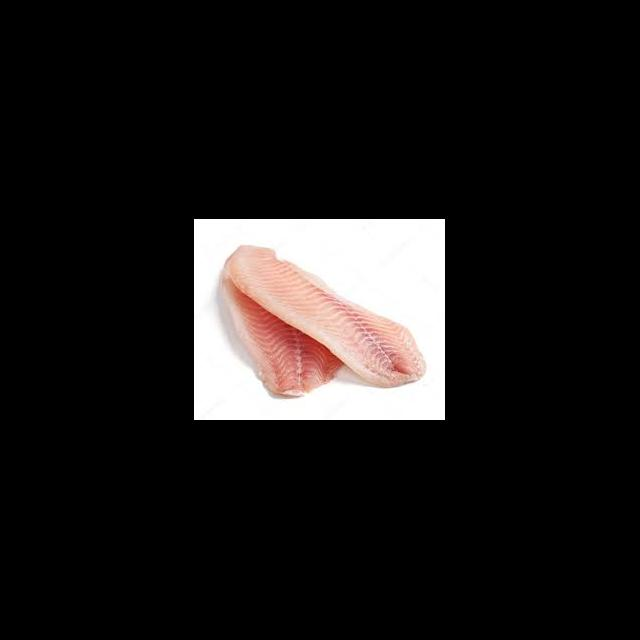fish: (221, 240, 428, 387)
